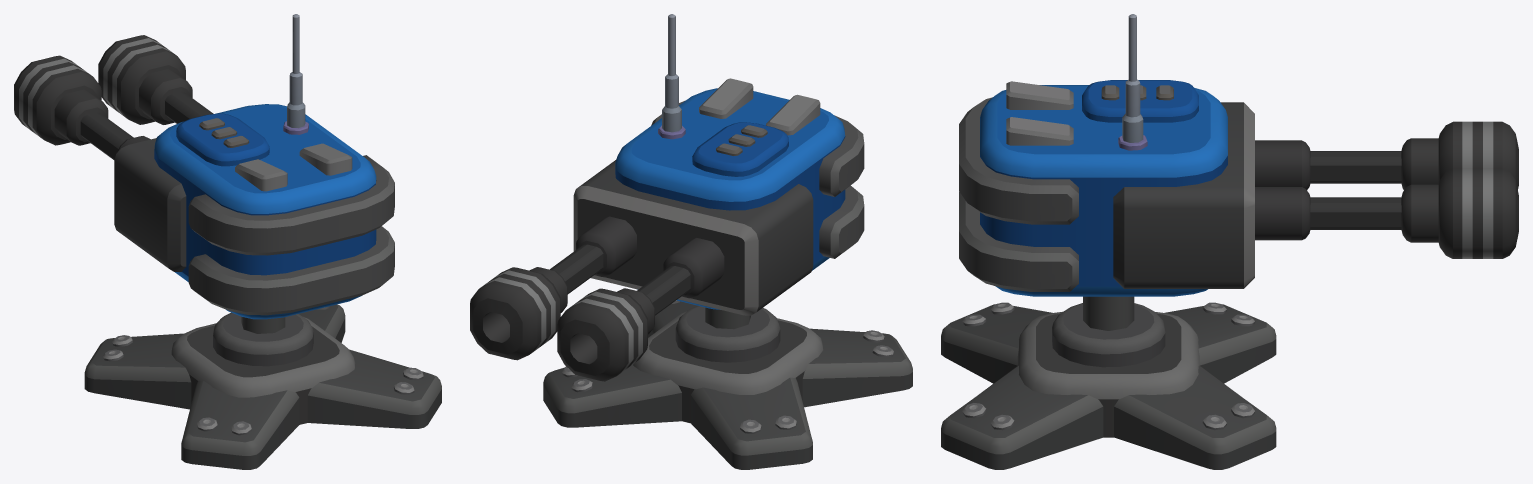
File: Turret_2_E.fbx
The picture shows the model from 3 angles, left to right: view 1: azimuth 30°, elevation 25°; view 2: azimuth 150°, elevation 25°; view 3: azimuth 270°, elevation 25°; orthographic projection. The views are drawn at different scales.
Parts seen in each view (by area): view 1: Turret_2_E_M, Turret_2_E, Turret_2_E_PL, Turret_2_E_PR, Turret_2_E_T; view 2: Turret_2_E_M, Turret_2_E, Turret_2_E_PL, Turret_2_E_PR, Turret_2_E_T; view 3: Turret_2_E_M, Turret_2_E, Turret_2_E_PR, Turret_2_E_PL, Turret_2_E_T.
Boxes of the visible parts, x1,y1,x2,y2 form: Turret_2_E_M: (114, 14, 394, 319); Turret_2_E: (84, 304, 441, 469); Turret_2_E_PL: (14, 55, 150, 159); Turret_2_E_PR: (98, 35, 213, 124); Turret_2_E_T: (213, 312, 313, 366); Turret_2_E_M: (573, 14, 864, 315); Turret_2_E: (543, 300, 912, 469); Turret_2_E_PL: (557, 238, 724, 381); Turret_2_E_PR: (470, 216, 636, 360); Turret_2_E_T: (675, 305, 780, 362); Turret_2_E_M: (959, 14, 1254, 296); Turret_2_E: (941, 302, 1276, 469); Turret_2_E_PR: (1255, 168, 1518, 258); Turret_2_E_PL: (1255, 121, 1518, 189); Turret_2_E_T: (1052, 296, 1165, 367).
Bounding box in the file's own units: 210 × 283 × 363.
